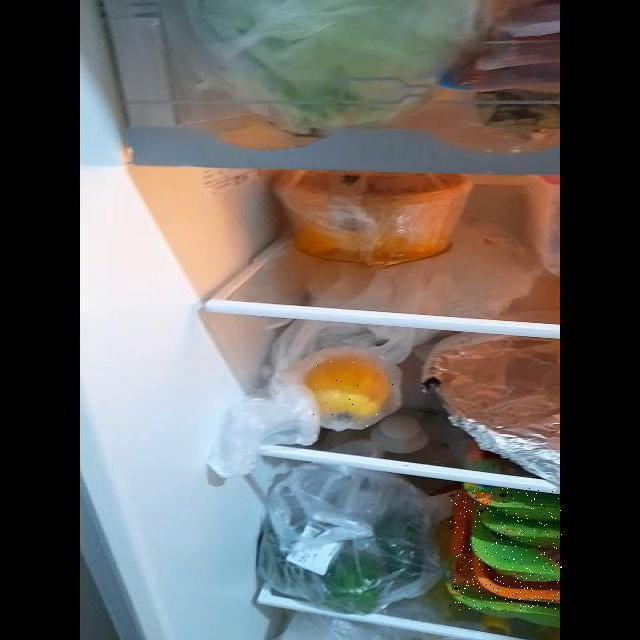Carne pollo: (450, 488, 563, 611)
Limón: (309, 350, 398, 427)
